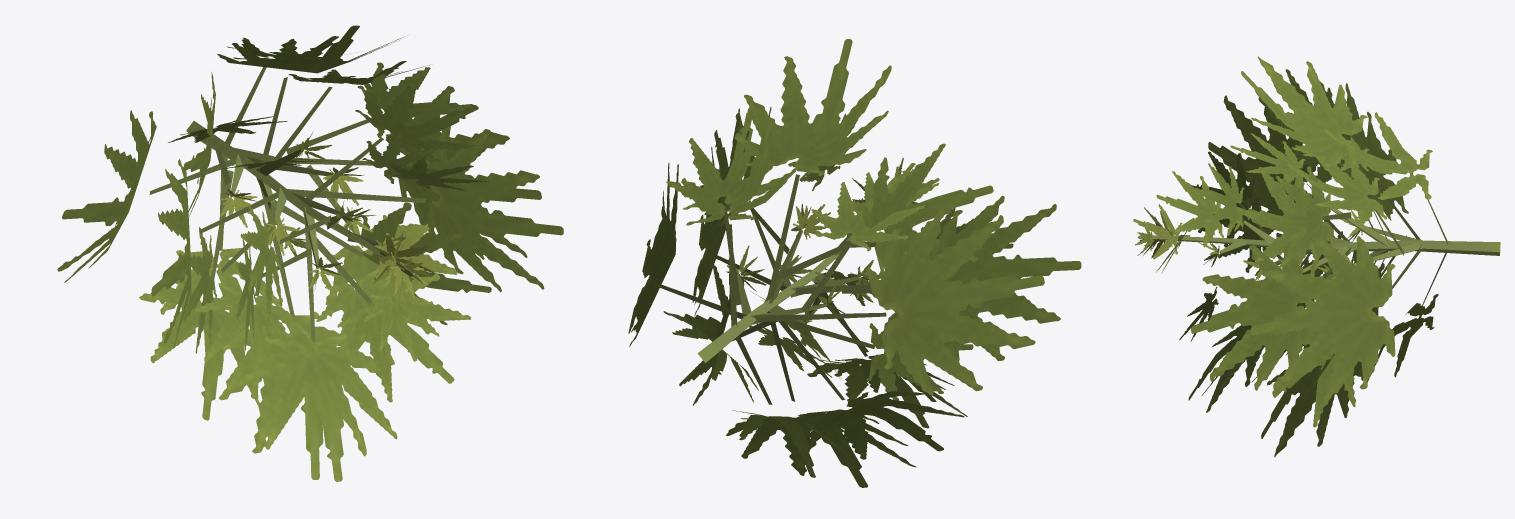
The model's file is p_landrace_vegetative_c1_cards.obj.
3 renders of one model, left to right at view 1: azimuth 30°, elevation 25°; view 2: azimuth 150°, elevation 25°; view 3: azimuth 270°, elevation 25°, orthographic. The views are drawn at different scales.
Bounding box in the file's own units: 1.25 × 1.21 × 0.957.
1 material, 1 textured.
